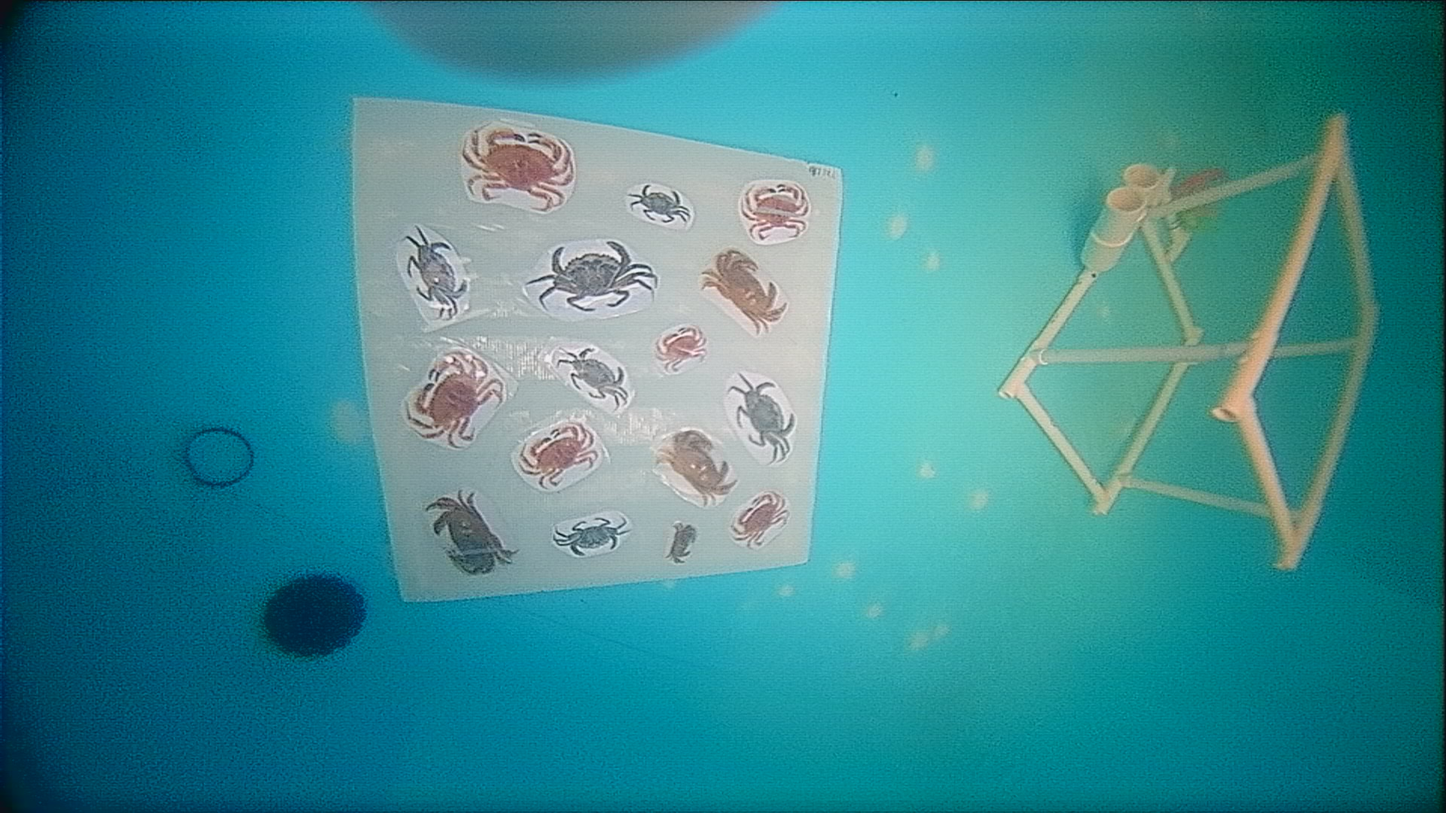GreenCrab: (528, 241, 656, 312), (728, 374, 794, 462), (405, 226, 466, 315), (561, 348, 628, 407), (554, 518, 627, 555), (630, 184, 690, 222)
